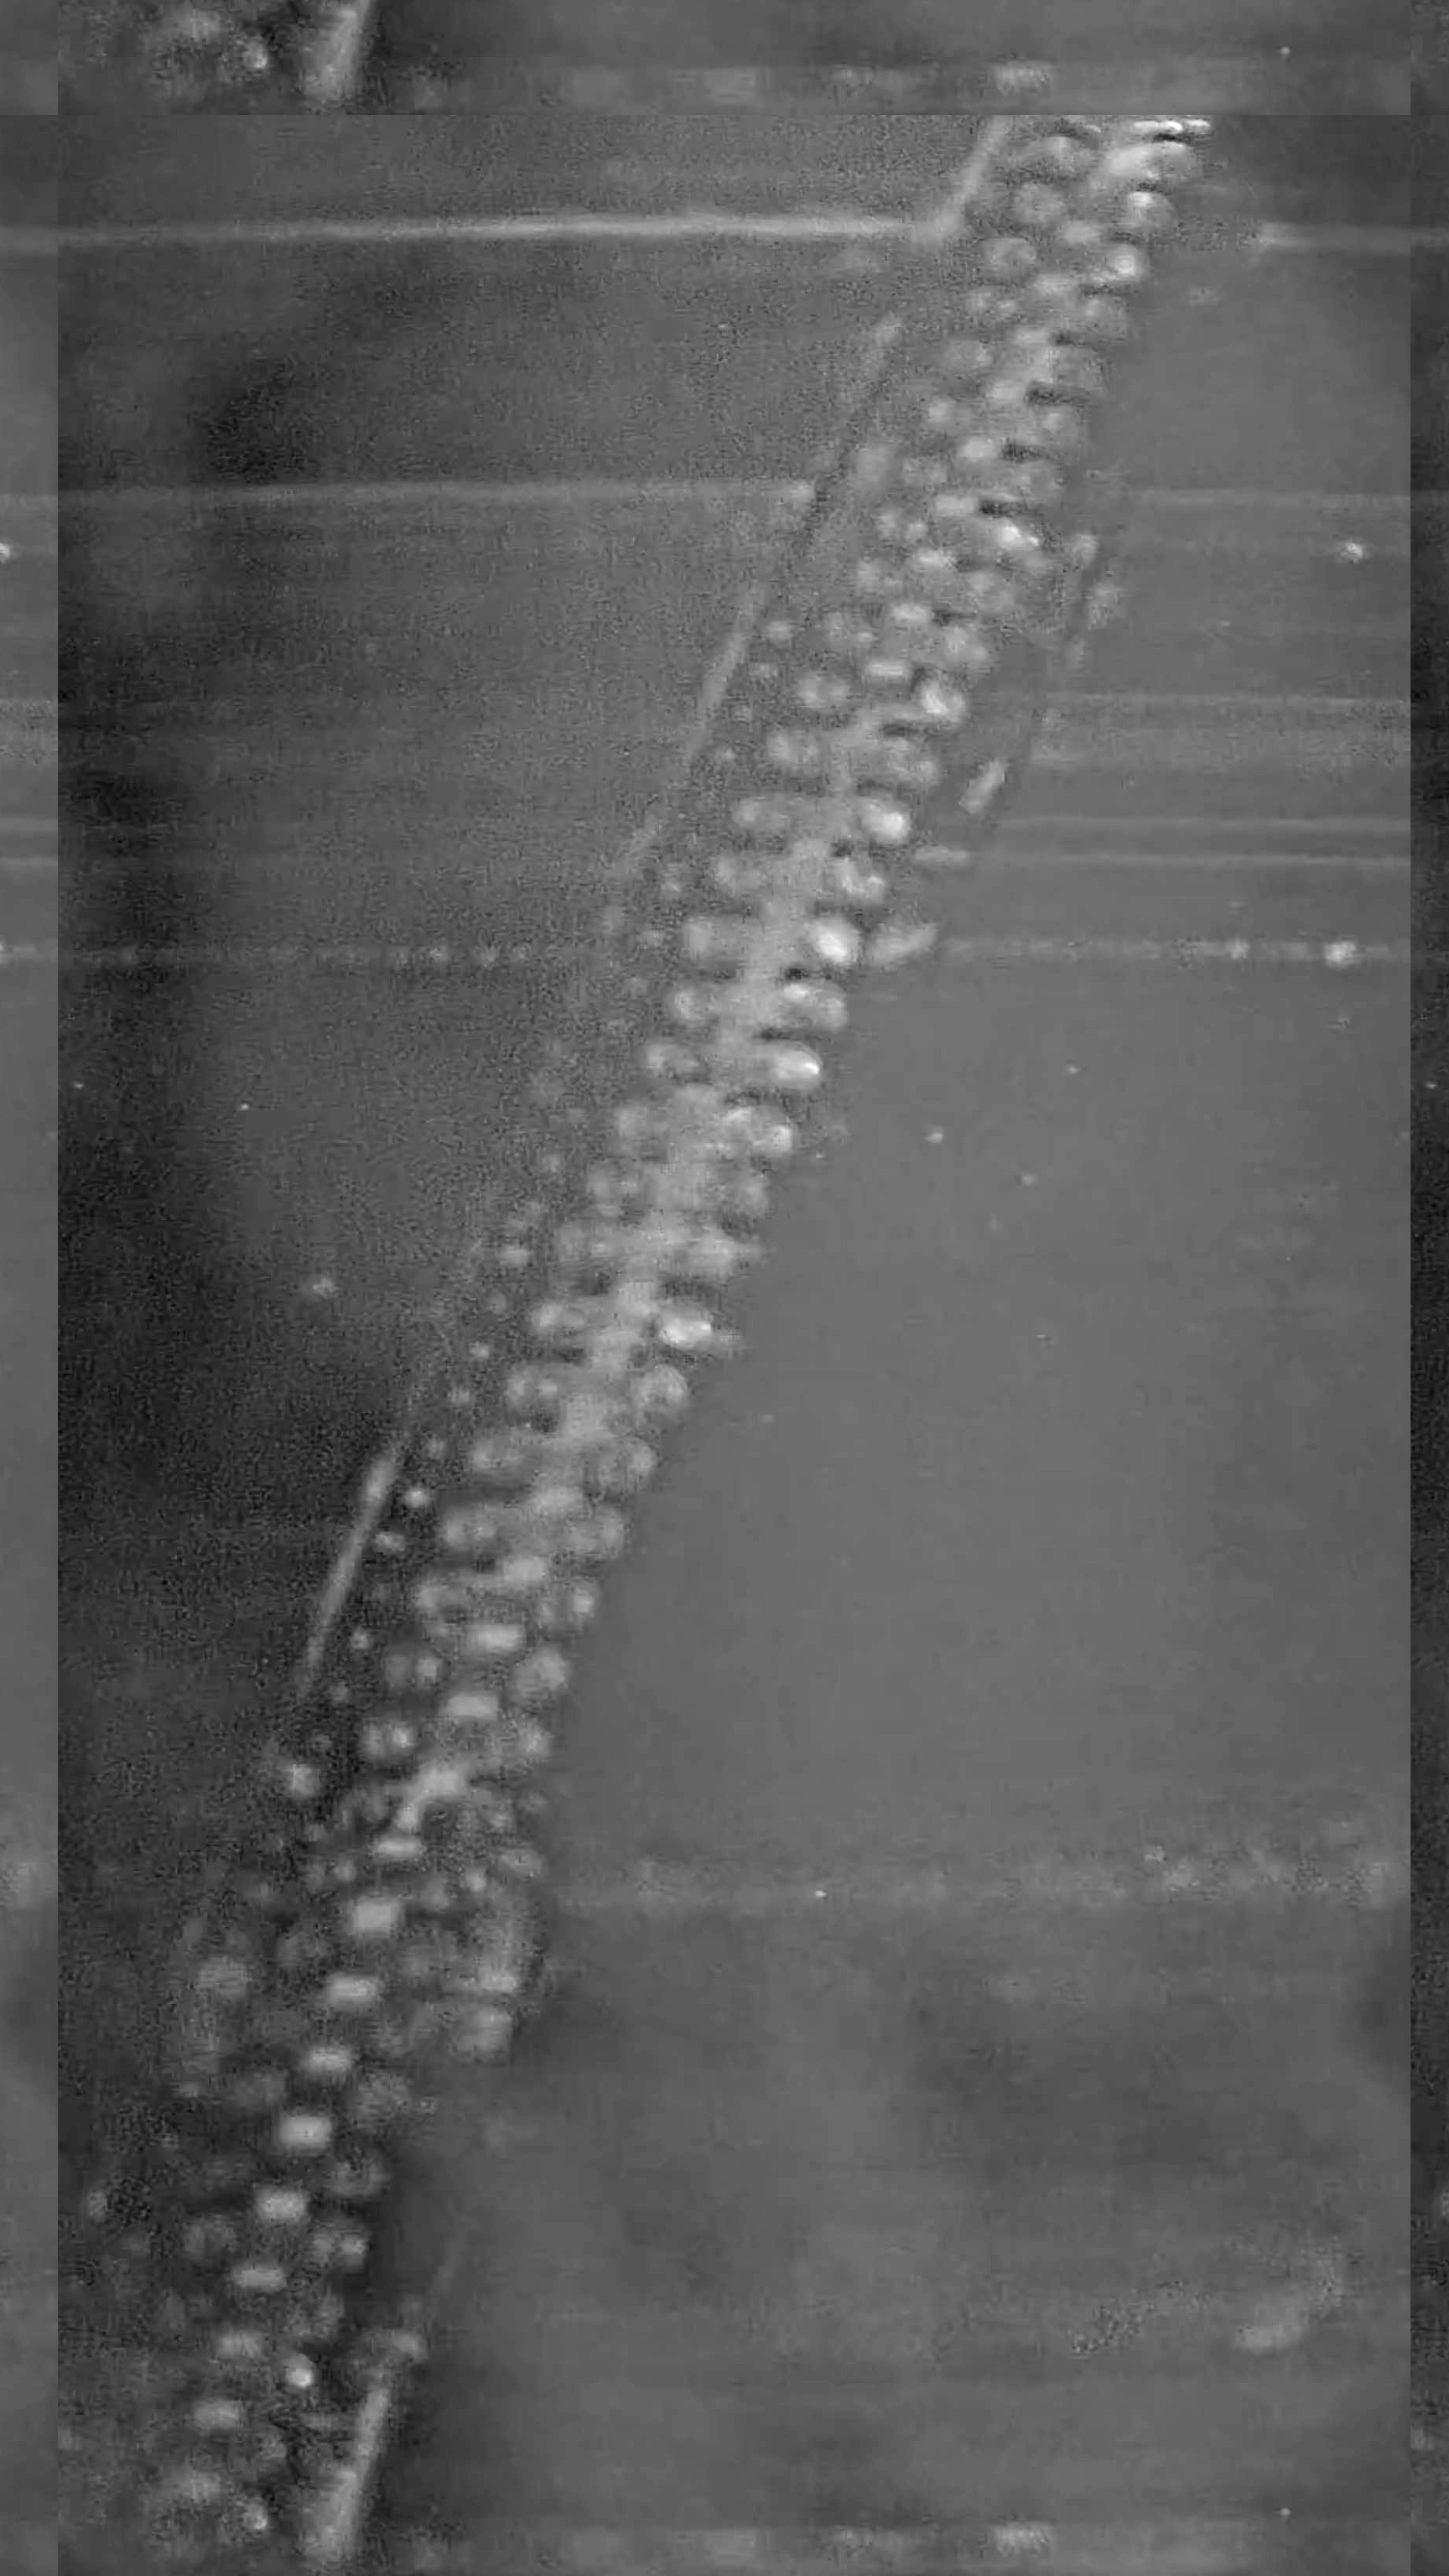splice_vulcanized: (57, 113, 1215, 2576)
